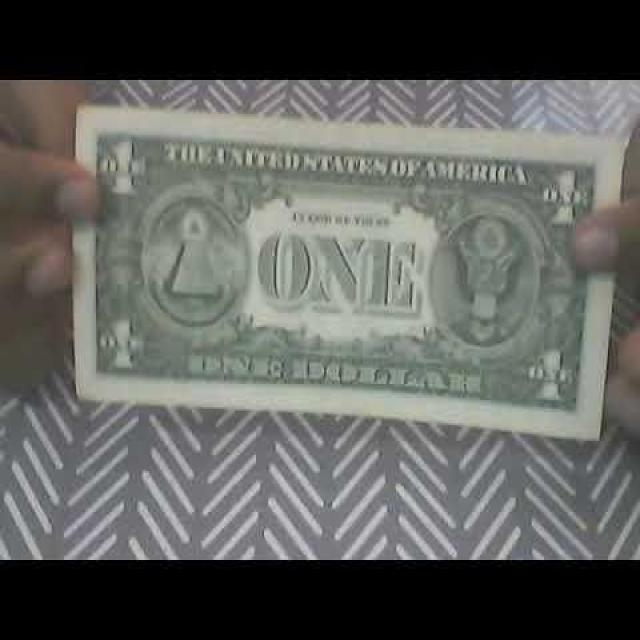1-Back: (75, 105, 620, 443)
